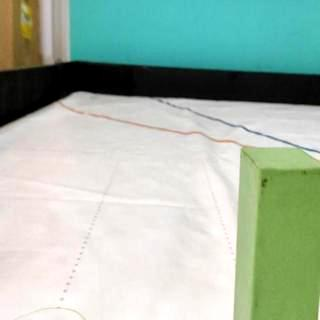greenbox: (236, 145, 320, 320)
